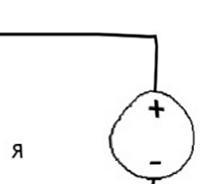Battery: (91, 88, 197, 183)
